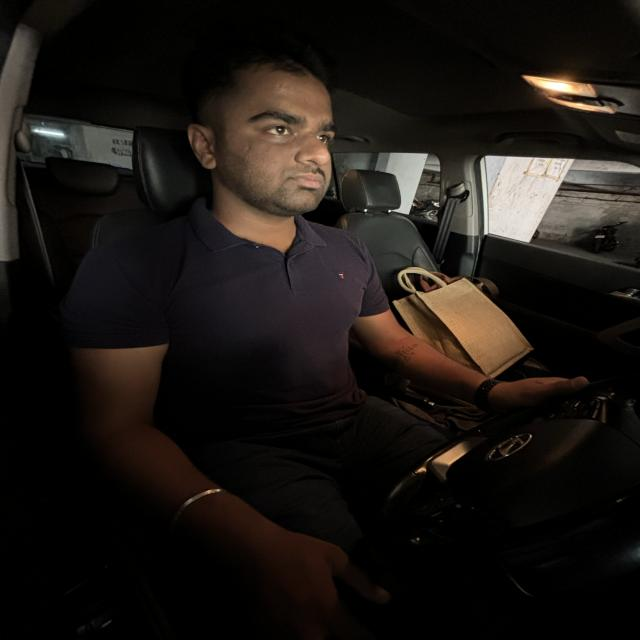no-seatbelt: (144, 210, 387, 438)
